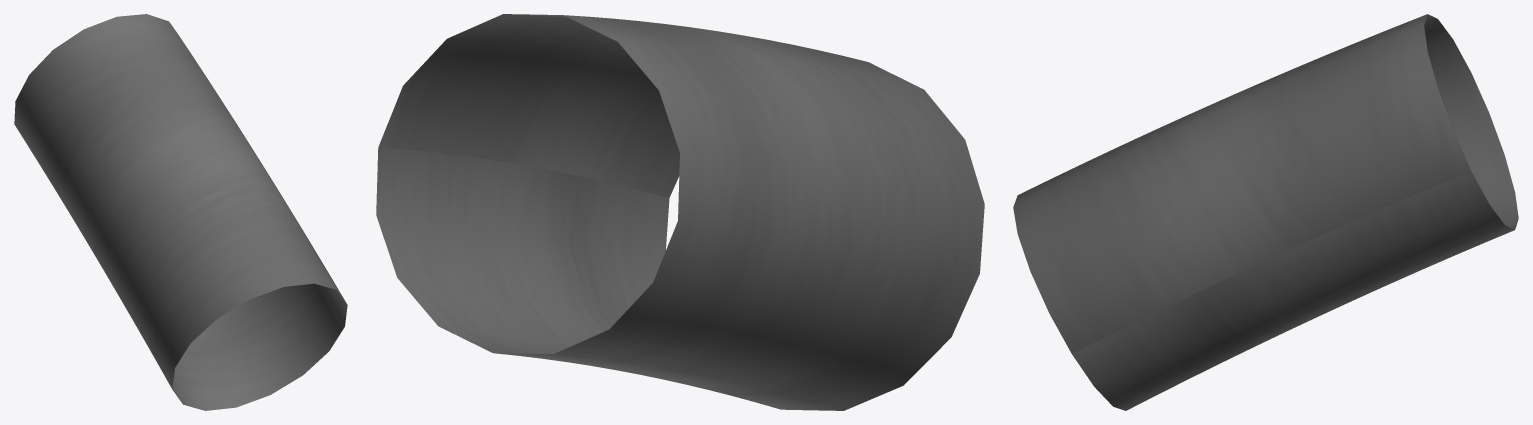
File: mastarmcurve_6x2_c2.obj
3 views of the same model, side by side, from view 1: azimuth 30°, elevation 25°; view 2: azimuth 150°, elevation 25°; view 3: azimuth 270°, elevation 25° (orthographic). The views are drawn at different scales.
Parts seen in each view (by area): view 1: mastarm_6x2_c2; view 2: mastarm_6x2_c2; view 3: mastarm_6x2_c2.
Part boxes in pixels (box(x1,y1,x2,y2)): mastarm_6x2_c2: box(14, 14, 347, 410); mastarm_6x2_c2: box(376, 14, 984, 410); mastarm_6x2_c2: box(1013, 14, 1518, 410).
Bounding box in the file's own units: 0.6042 × 1.03 × 1.27.
